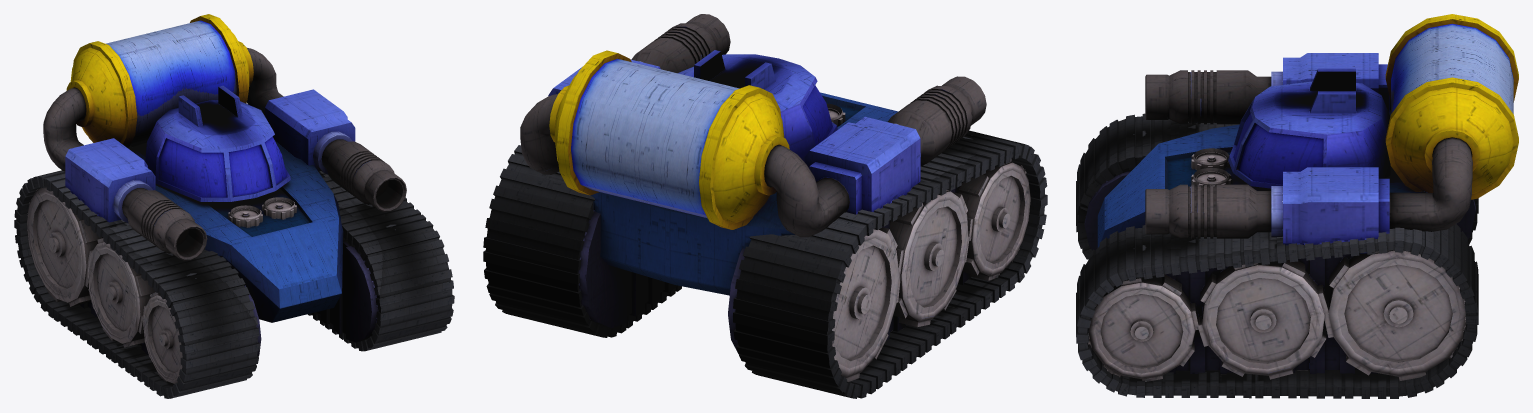
Rendered from PlayerB19.obj.
3 views of the same model, side by side, from view 1: azimuth 30°, elevation 25°; view 2: azimuth 150°, elevation 25°; view 3: azimuth 270°, elevation 25° (orthographic). The views are drawn at different scales.
Visible parts, largest first — view 1: Object001, Box042, Object004, Object003, Object002; view 2: Object001, Box042, Object003, Object004, Object002; view 3: Object001, Box042, Object004, Object003, Object002.
Boxes of the visible parts, box(x1,y1,x2,y2) form: Object001: box(43, 14, 406, 356); Box042: box(14, 170, 454, 398); Object004: box(27, 187, 101, 306); Object003: box(87, 238, 155, 347); Object002: box(142, 292, 182, 383); Object001: box(520, 14, 986, 354); Box042: box(483, 130, 1047, 398); Object003: box(889, 190, 968, 326); Object004: box(832, 227, 900, 381); Object002: box(958, 158, 1030, 280); Object001: box(1084, 14, 1518, 374); Box042: box(1076, 113, 1478, 398); Object004: box(1324, 250, 1466, 380); Object003: box(1198, 260, 1328, 379); Object002: box(1088, 274, 1199, 381).
Size of the model in its own units: 121 by 100 by 147.
Materials: 2 (2 with a texture image).
